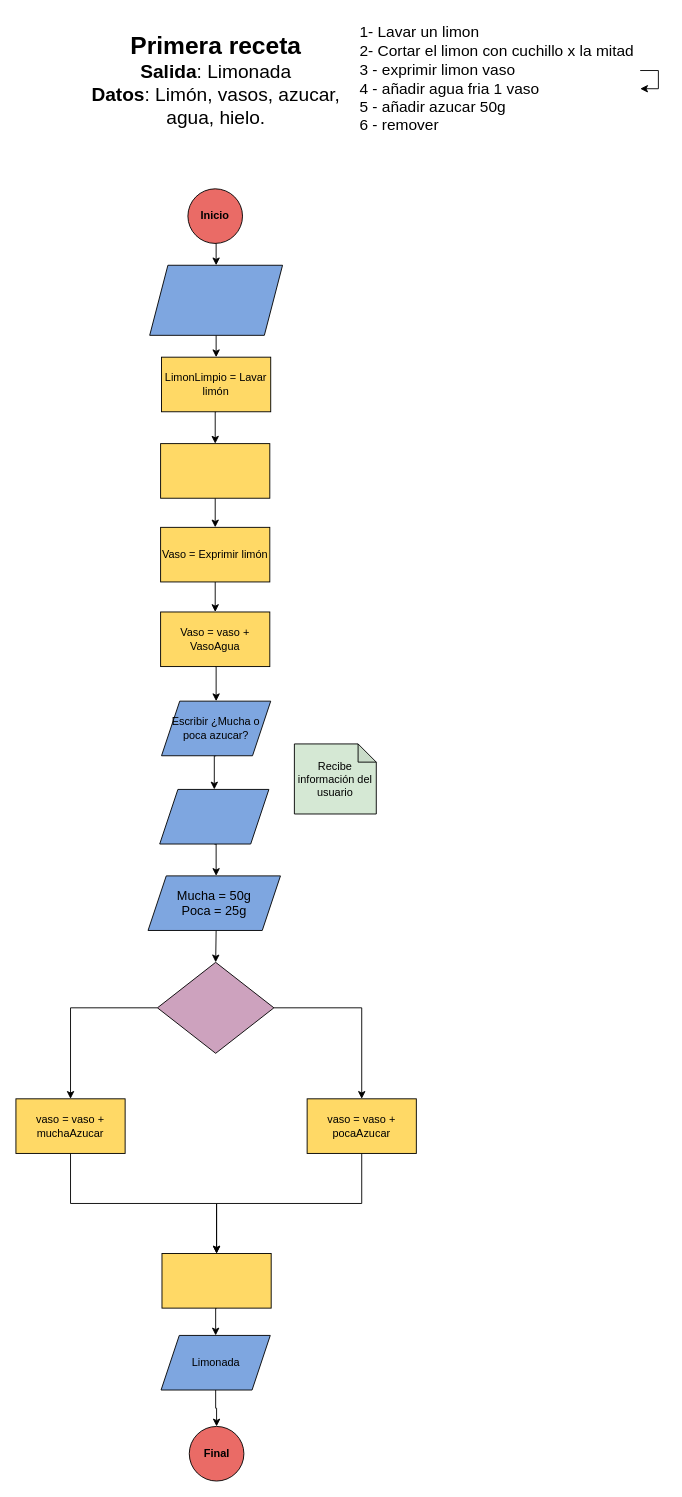
This 682x1497 diagram has some shape labels left out. The centre of each missing label's shape, as x and y in pixels:
Datos : Limón, vasos, azucar, agua, hielo. pocaAzucar = 25g muchaAzucar =50g: point (216, 299)
Leer: respuestaAzucar: point (214, 816)
Limonada = removerVaso: point (216, 1280)
LimonCortado = limon/2: point (215, 470)
RespuestaAzucar: point (215, 1007)
